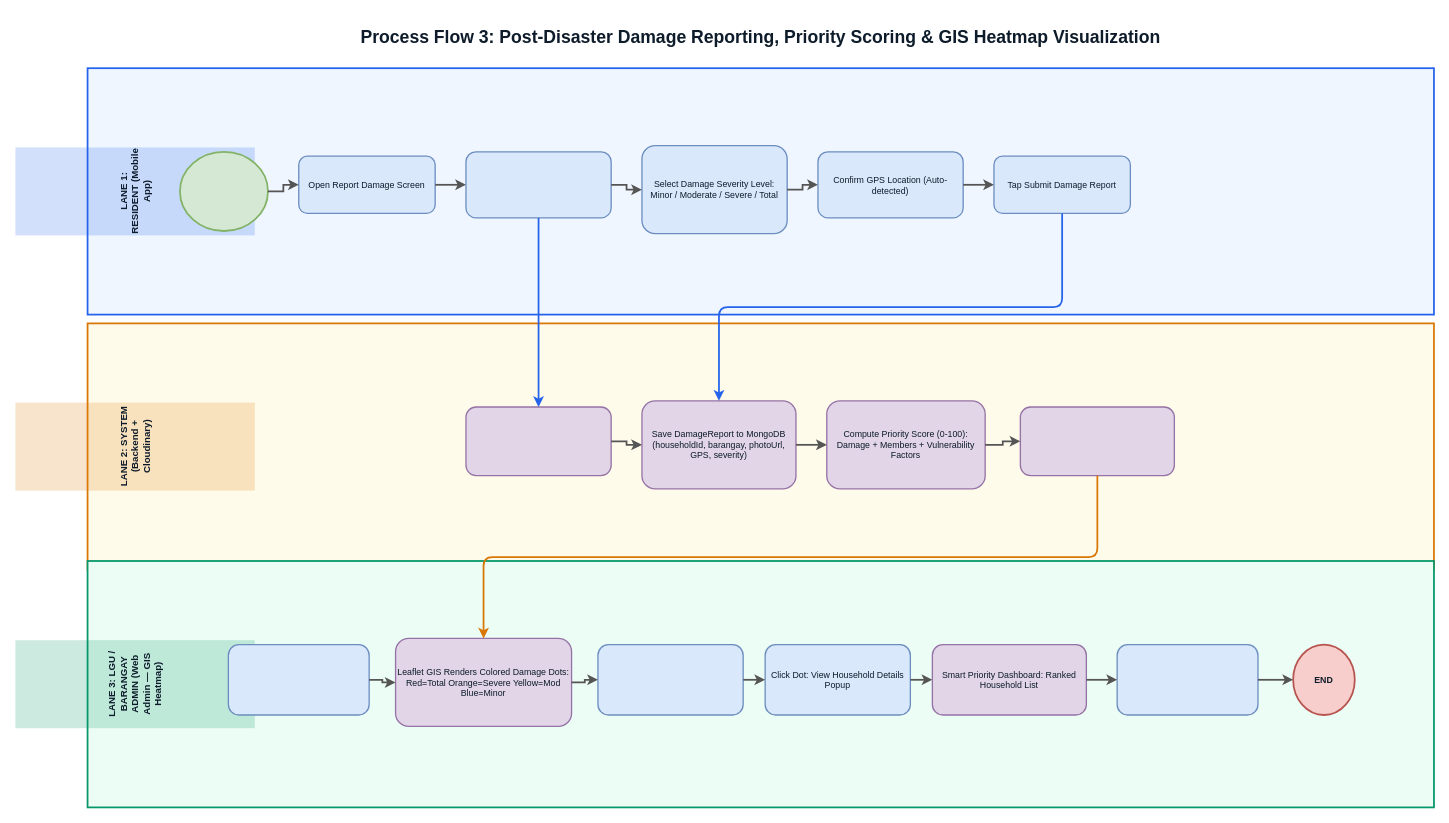
This 1449x823 diagram has some shape labels left out. Each missing label, with the centre of its shape:
Filter by Barangay or Damage Level: the point at 670,679
Open Barangay Heatmap in Web Admin: the point at 298,679
Plan Targeted Relief Dispatch: the point at 1187,679
START: Disaster Event: the point at 223,190
Take Photo of Damaged Home (Device Camera): the point at 538,184
Update Household priority_score in MongoDB: the point at 1097,441
Upload Photo to Cloudinary CDN (Get Secure URL): the point at 538,441
